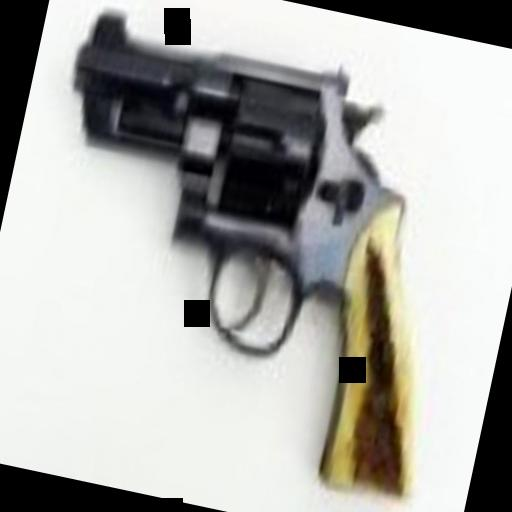Handgun: (8, 0, 491, 499)
